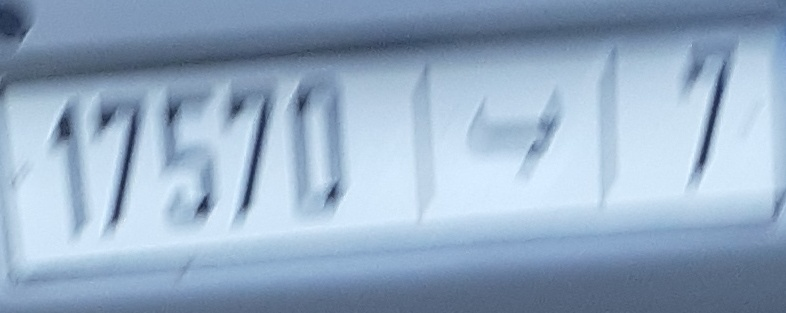0: (284, 68, 361, 221)
1: (29, 90, 94, 237)
5: (160, 71, 225, 234)
7: (83, 81, 158, 231), (679, 34, 744, 192), (219, 69, 277, 229)
b: (467, 77, 573, 177)
